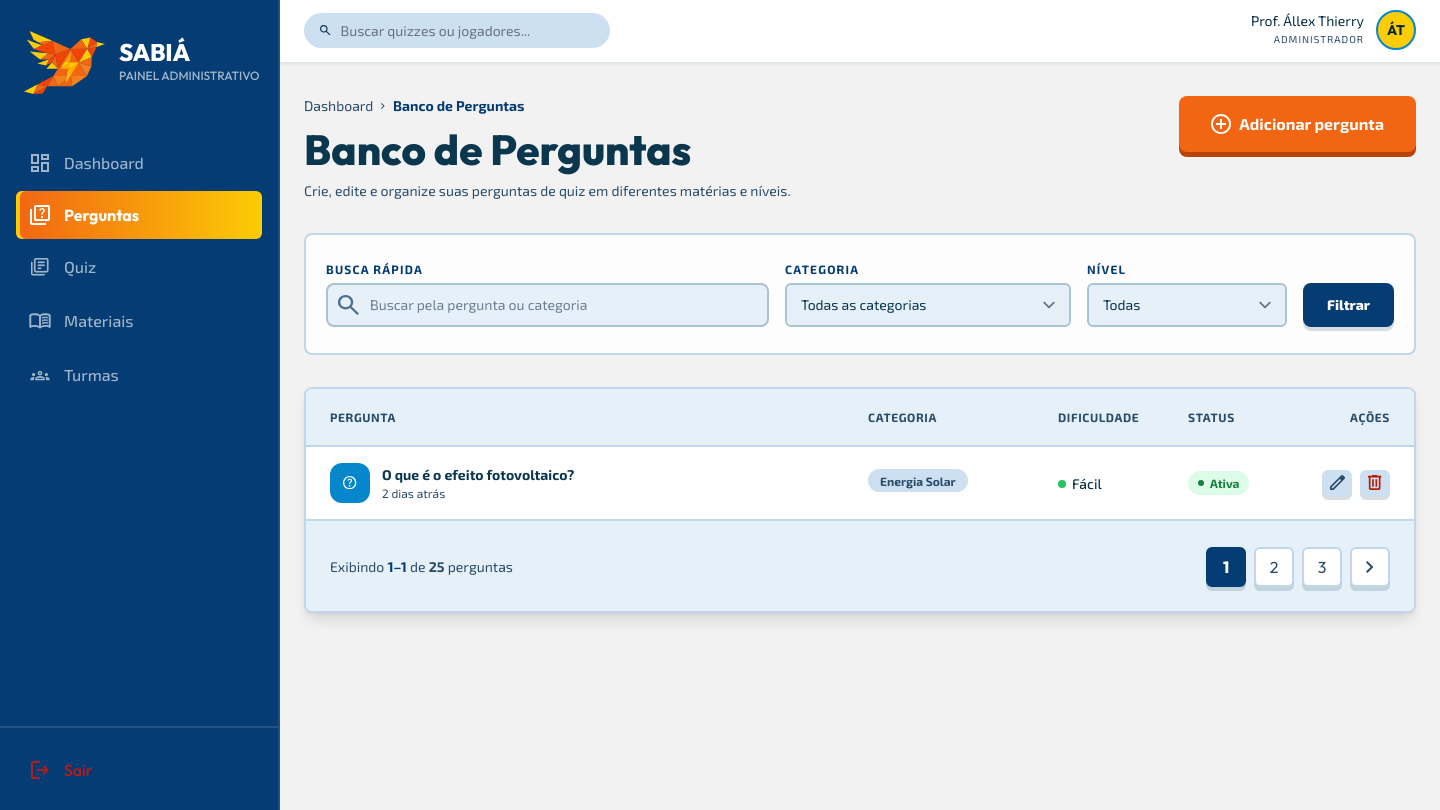
Test: Banco de perguntas › troca de página pela paginação
Check: the text "O que é o efeito fotovoltaico?" is shown, box [382,465,574,485]
Click the button named "Página 2" at (1274, 567), box [1254,547,1294,587]
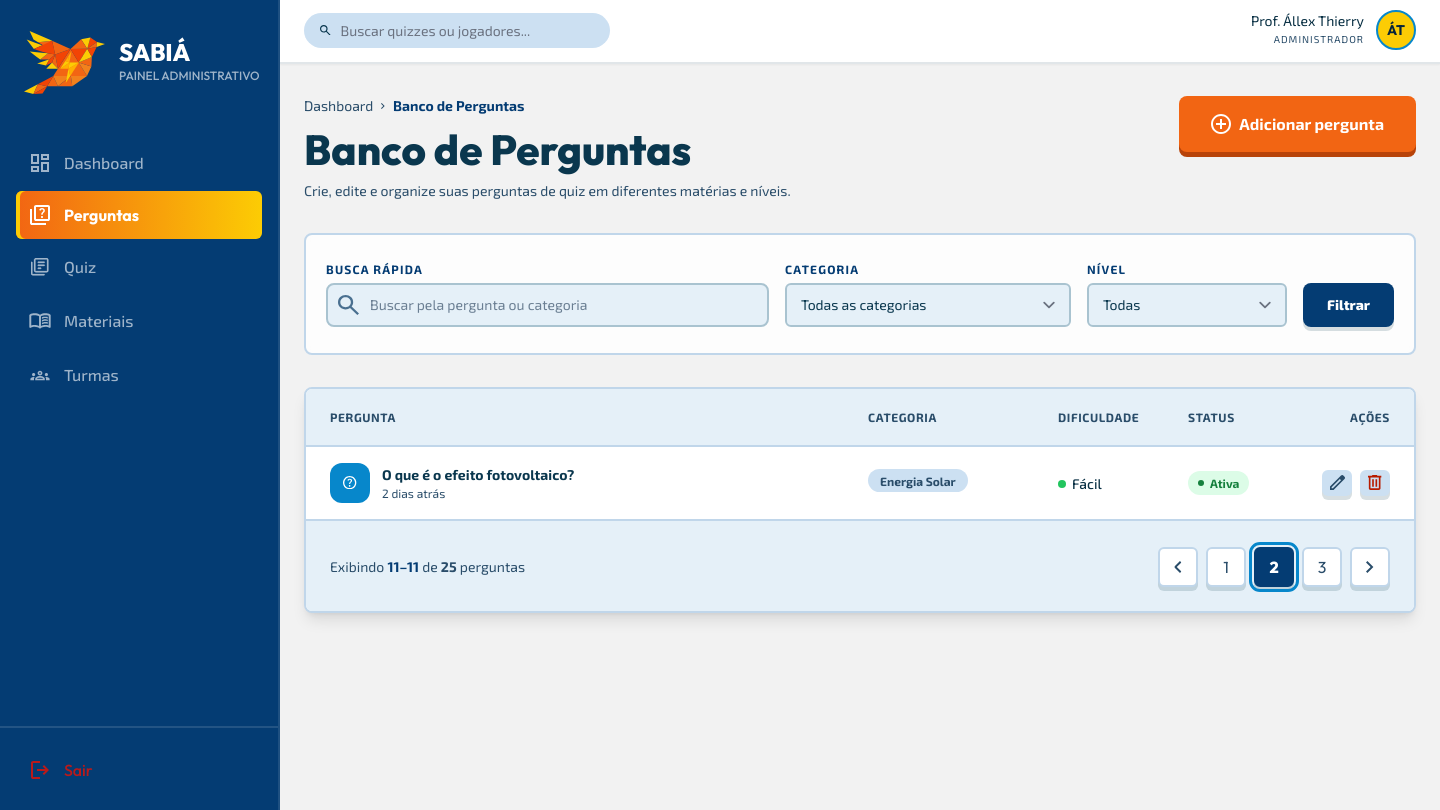
Check: the button named "Página anterior" is shown, box [1158,547,1198,587]
